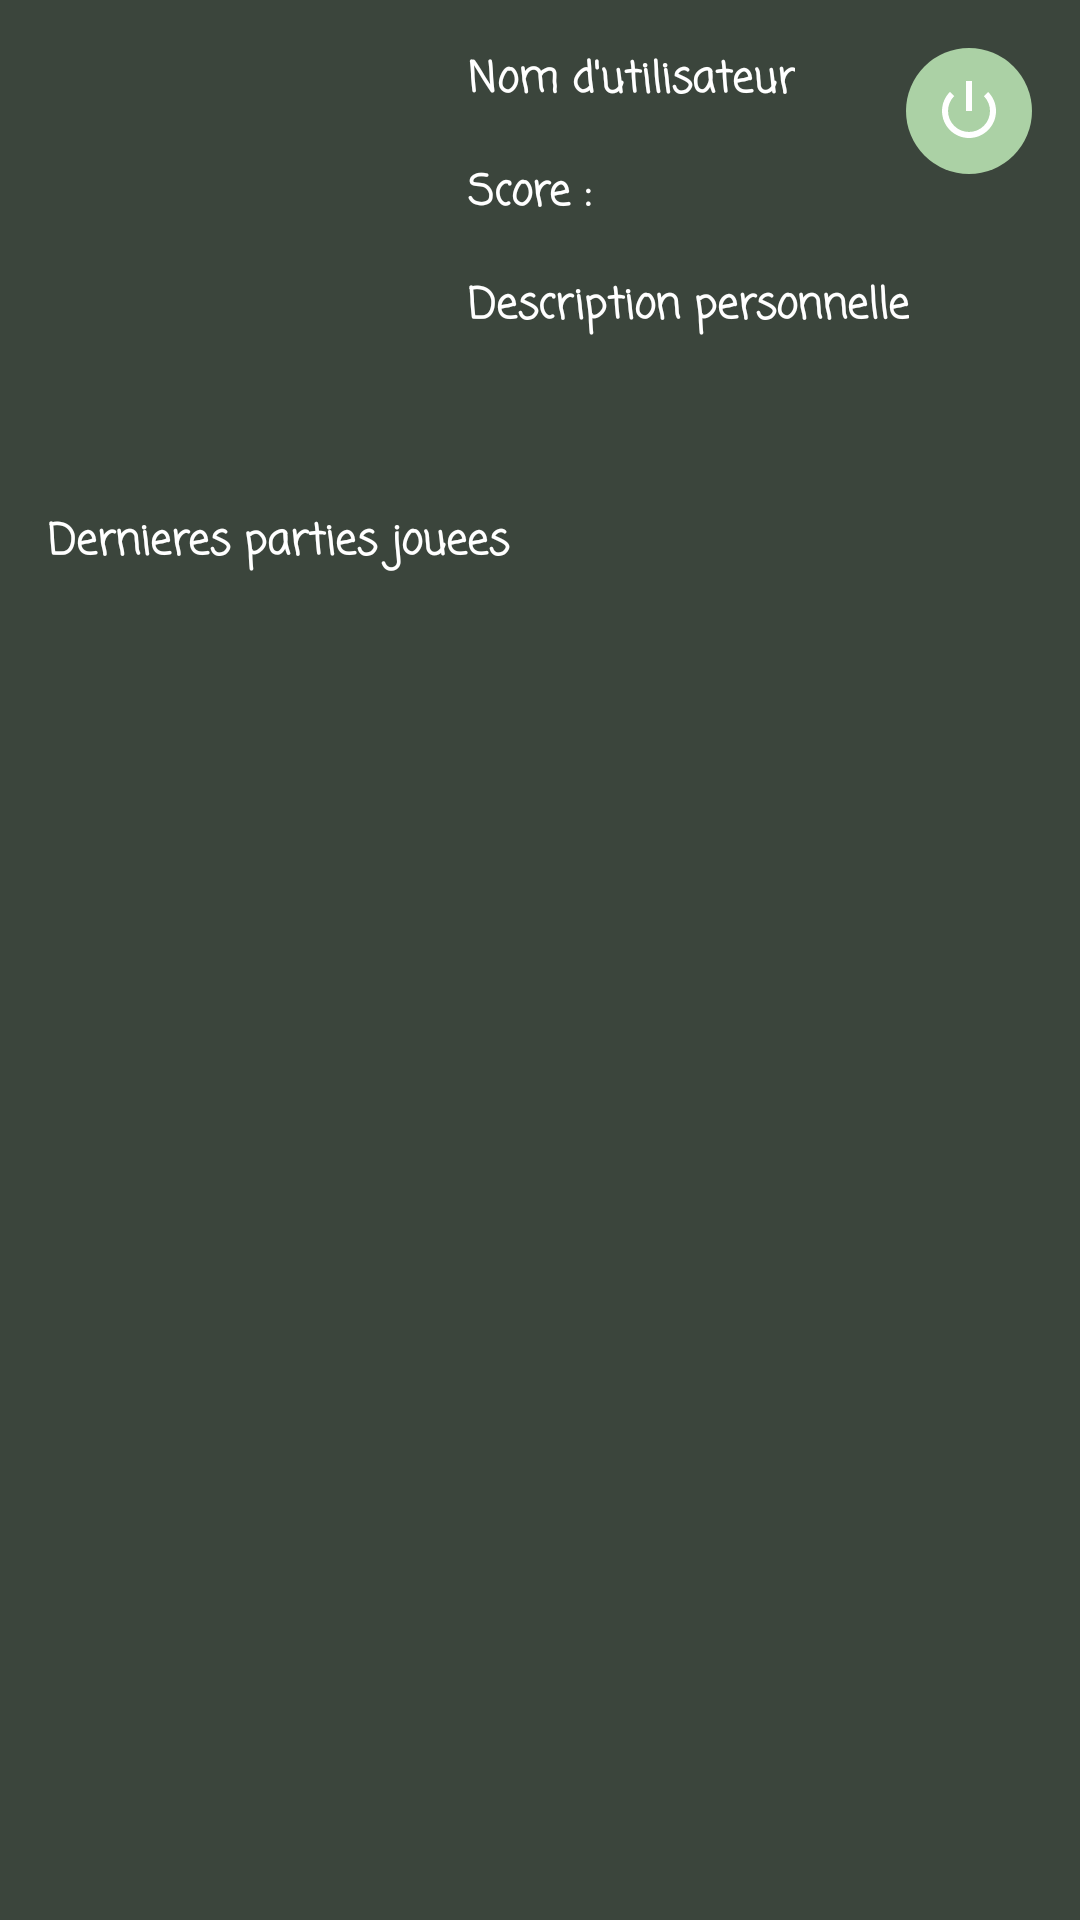

Icon bounding boxes for this 1080x1920 phone screenshot, format bbox=(x1, y1, x2, y2):
lock power off: bbox=(906, 48, 1032, 174)
